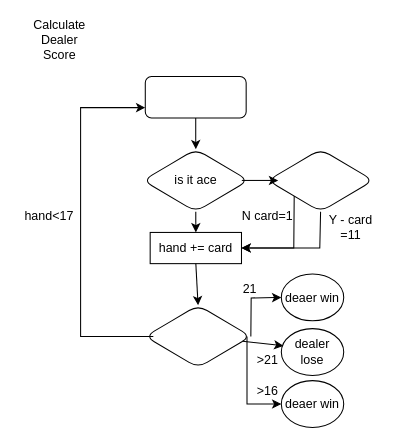
Some shapes in this 399 by 446 pixel diagram are drawn without their labels. Here are the shapes that lost their labels. From the top down, the centre of each, then its label:
(x=195, y=96): draw card
(x=320, y=180): is it 1st card
(x=197, y=336): check score
